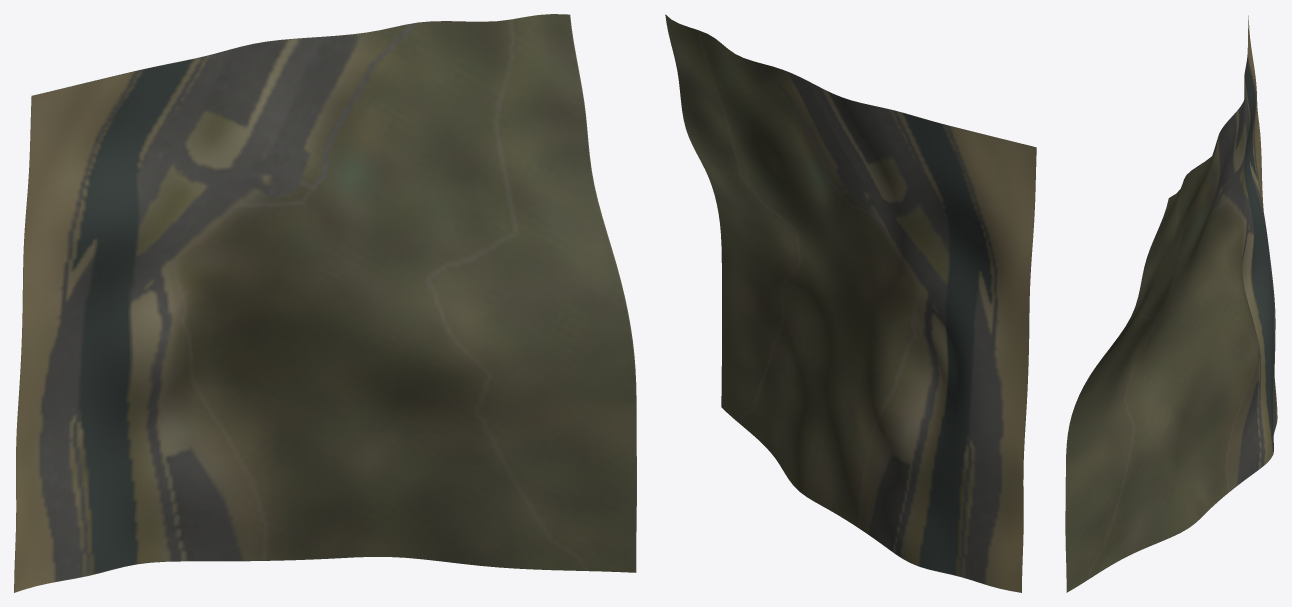
Rendered from ground_mid_05_02.obj.
3 renders of one model, left to right at view 1: azimuth 30°, elevation 25°; view 2: azimuth 150°, elevation 25°; view 3: azimuth 270°, elevation 25°, orthographic. The views are drawn at different scales.
Visible parts, largest first — view 1: ground_mid_05_02; view 2: ground_mid_05_02; view 3: ground_mid_05_02.
Part boxes in pixels (bbox=[...]): ground_mid_05_02: bbox=[14, 14, 636, 592]; ground_mid_05_02: bbox=[665, 14, 1036, 592]; ground_mid_05_02: bbox=[1065, 15, 1277, 592].
Size of the model in its own units: 200 by 200 by 97.39.
Materials: 1 (1 with a texture image).
